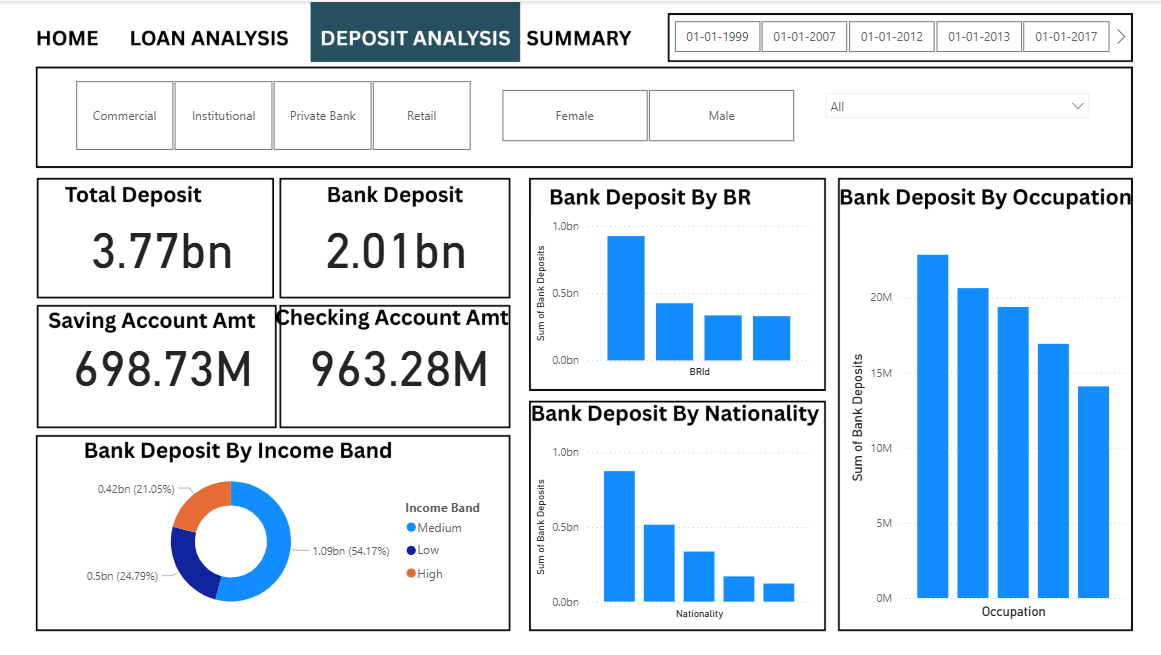

Layout of this report page (visuals, bound fields, positions):
{"tool":"powerbi","page":{"name":"DEPOSIT ANALYSIS","canvas":[1280,720],"ordinal":2},"visuals":[{"type":"slicer","fields":{"Values":["Banking.Year of Joining"]},"box":[719,15.1,526.9,48],"z":0},{"type":"actionButton","box":[26.1,19.2,100.2,39.8],"z":1000},{"type":"actionButton","box":[352.7,19.2,211.3,39.8],"z":2000},{"type":"actionButton","box":[575,19.2,129,39.8],"z":3000},{"type":"card","fields":{"Values":["Banking.Total Deposit"]},"box":[76.8,233.3,211.3,68.6],"z":4000},{"type":"card","fields":{"Values":["Sum(Banking.Bank Deposits)"]},"box":[333.4,233.3,211.3,68.6],"z":5000},{"type":"card","fields":{"Values":["Sum(Banking.Saving Accounts)"]},"box":[61.7,338.9,242.9,115.3],"z":6000},{"type":"card","fields":{"Values":["Sum(Banking.Checking Accounts)"]},"box":[321.1,338.9,242.9,115.3],"z":7000},{"type":"donutChart","fields":{"Category":["Banking.Income Band"],"Y":["Sum(Banking.Bank Deposits)"]},"box":[61.7,503.6,492.6,179.8],"z":8000},{"type":"clusteredColumnChart","fields":{"Category":["Banking.BRId"],"Y":["Sum(Banking.Bank Deposits)"]},"box":[587.3,233.3,312.9,185.2],"z":9000},{"type":"clusteredColumnChart","fields":{"Category":["Banking.Nationality"],"Y":["Sum(Banking.Bank Deposits)"]},"box":[587.3,481.6,312.9,201.7],"z":10000},{"type":"clusteredColumnChart","fields":{"Y":["Sum(Banking.Bank Deposits)"],"Category":["Banking.Occupation"]},"box":[933.1,245.6,312.9,437.7],"z":11000},{"type":"slicer","fields":{"Values":["Banking.BRId"]},"box":[61.7,81,483,89.2],"z":12000},{"type":"slicer","fields":{"Values":["Banking.GenderId"]},"box":[529.7,90.6,370.5,70],"z":13000},{"type":"slicer","fields":{"Values":["Banking.IAId"]},"box":[900.2,90.6,310.1,89.2],"z":14000},{"type":"actionButton","box":[134.5,15.1,186.6,39.8],"z":14001}]}

Visuals, with their boxes in screenshot pixels (x1, y1, x2, y2), scaled from the page's 1280x720 canvas onto the 1161x655 screenshot:
slicer - Banking.Year of Joining: region(652, 14, 1130, 57)
actionButton: region(24, 17, 115, 54)
actionButton: region(320, 17, 512, 54)
actionButton: region(522, 17, 639, 54)
card - Banking.Total Deposit: region(70, 212, 261, 275)
card - Sum(Banking.Bank Deposits): region(302, 212, 494, 275)
card - Sum(Banking.Saving Accounts): region(56, 308, 276, 413)
card - Sum(Banking.Checking Accounts): region(291, 308, 512, 413)
donutChart - Banking.Income Band x Sum(Banking.Bank Deposits): region(56, 458, 503, 622)
clusteredColumnChart - Banking.BRId x Sum(Banking.Bank Deposits): region(533, 212, 817, 381)
clusteredColumnChart - Banking.Nationality x Sum(Banking.Bank Deposits): region(533, 438, 817, 622)
clusteredColumnChart - Sum(Banking.Bank Deposits) x Banking.Occupation: region(846, 223, 1130, 622)
slicer - Banking.BRId: region(56, 74, 494, 155)
slicer - Banking.GenderId: region(480, 82, 817, 146)
slicer - Banking.IAId: region(817, 82, 1098, 164)
actionButton: region(122, 14, 291, 50)
